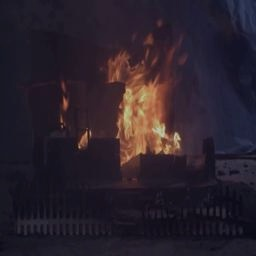fire: (57, 14, 200, 171)
